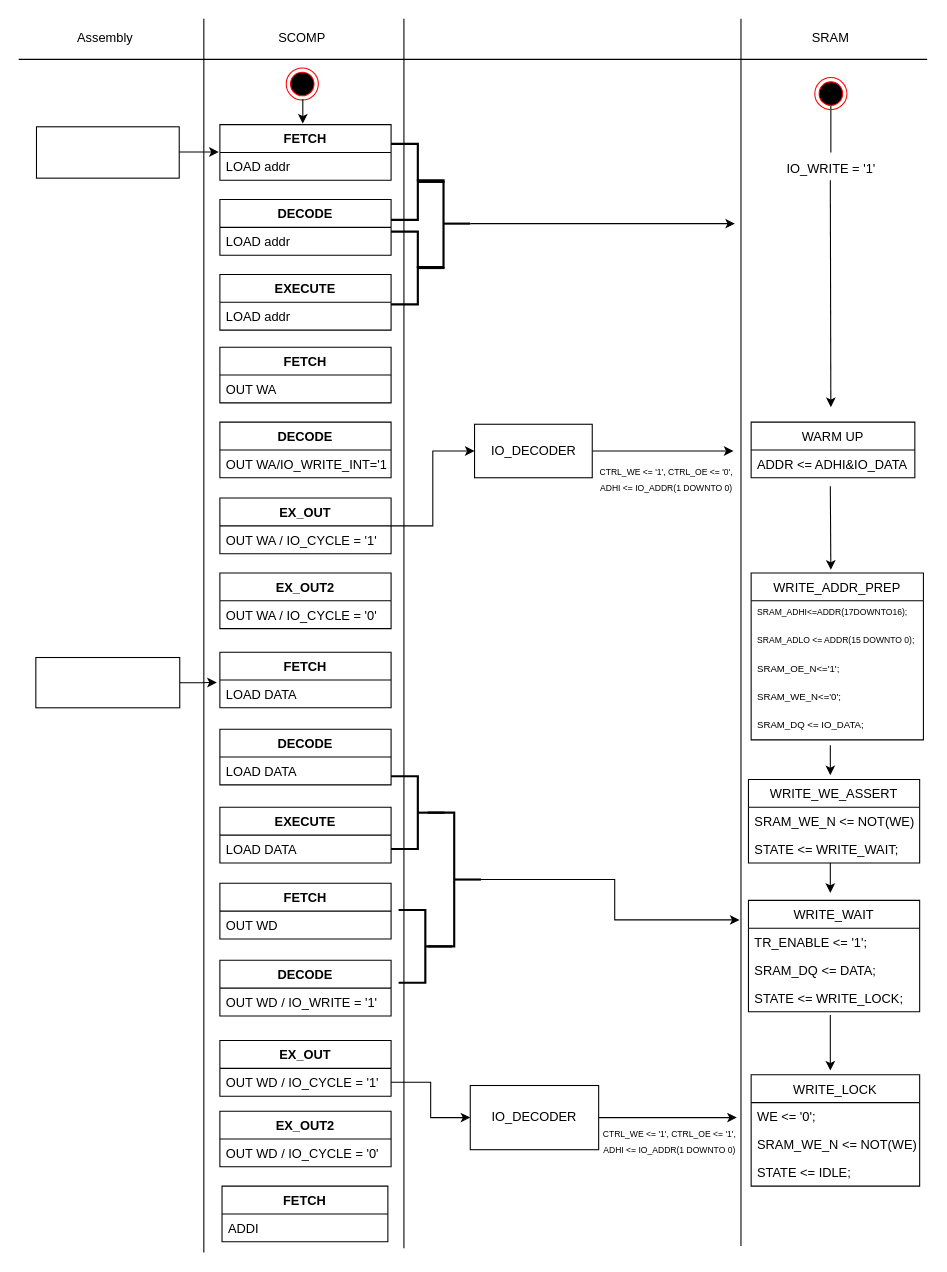
Some shapes in this 947 by 1272 pixel diagram are drawn without their labels. Each missing label, with the centre of its shape:
IN SRAM_WA01: the point at 107,682
LOAD sram_addr_low OUT SRAM_WA01: the point at 107,152
